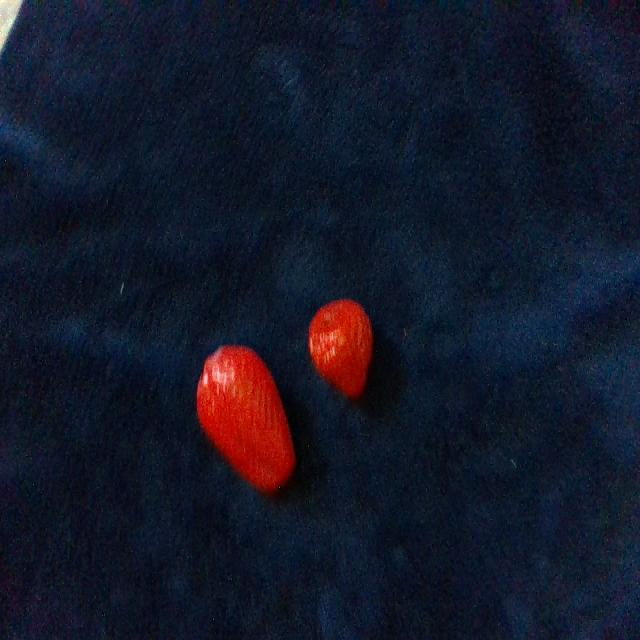chica_roja: (309, 300, 372, 397)
grande_roja: (197, 347, 295, 492)
